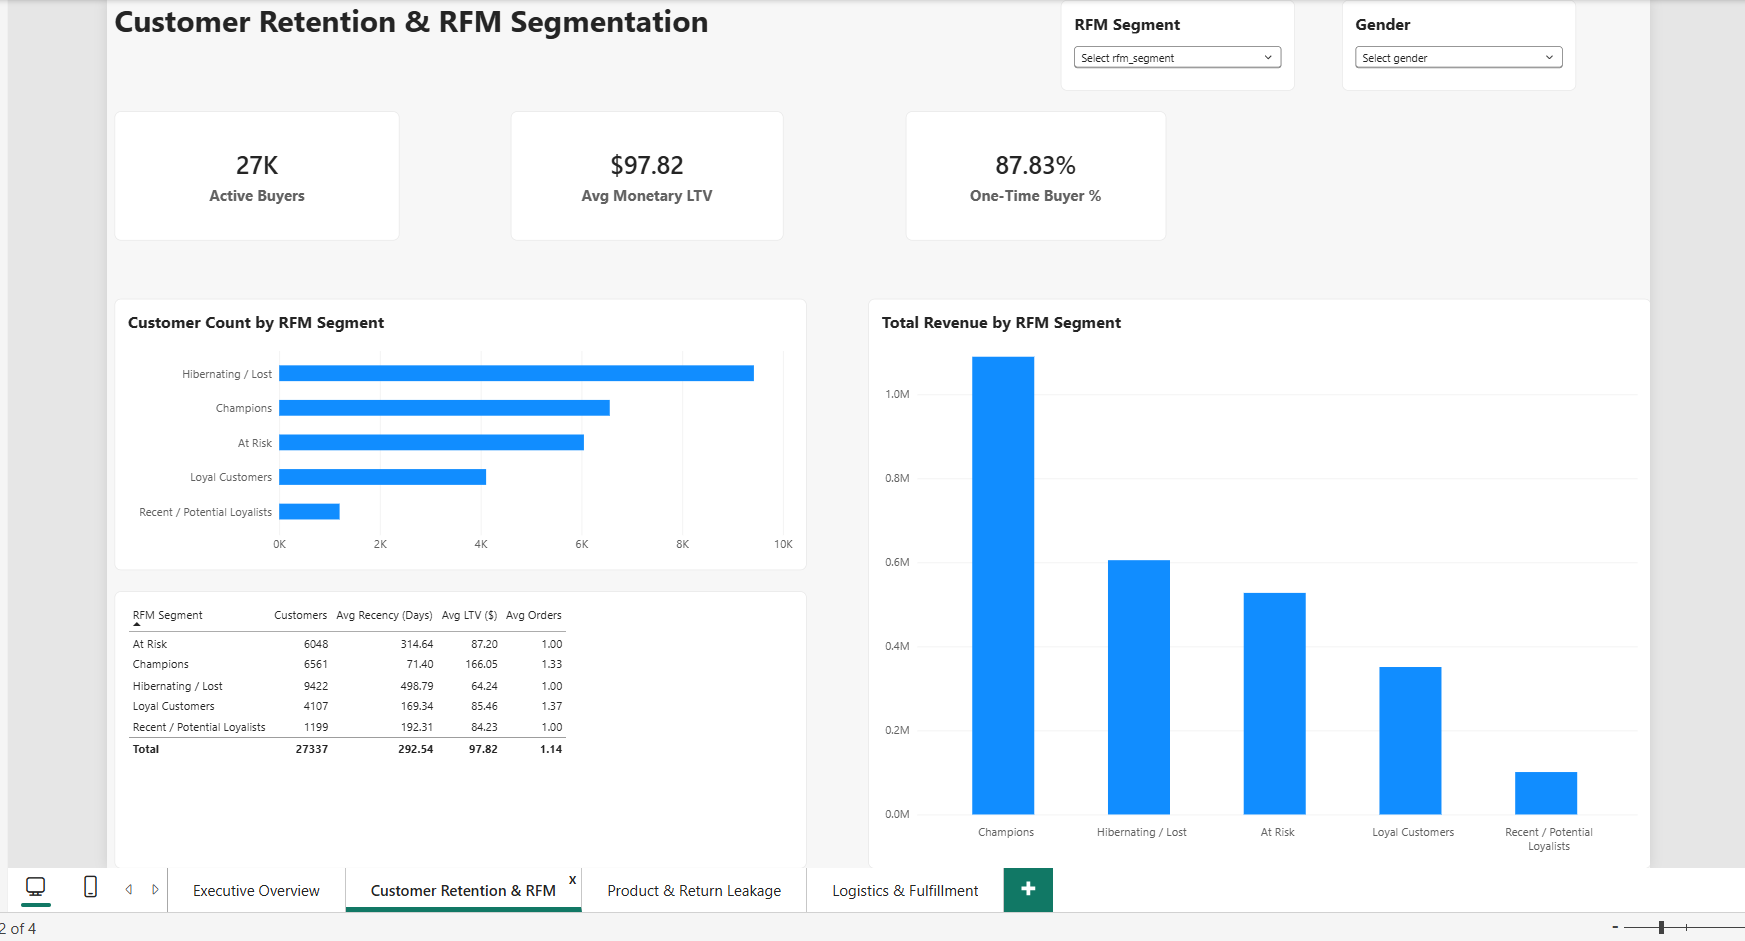

What the dashboard file says about the page in this screenshot:
{"tool":"powerbi","page":{"name":"Customer Retention & RFM","canvas":[1920,1080],"ordinal":1},"visuals":[{"type":"textbox","box":[9.6,0,1144.2,105.4],"z":0},{"type":"listSlicer","title":"RFM Segment","fields":{"Values":["vw_rfm_segments.rfm_segment"]},"box":[1186.3,0,291.3,113.1],"z":1000},{"type":"listSlicer","title":"Gender","fields":{"Values":["vw_dim_customers.gender"]},"box":[1535.2,0,291.3,113.1],"z":2000},{"type":"card","fields":{"Values":["_Measures.Active Buyers"]},"box":[9.6,138,354.6,161],"z":3000},{"type":"card","fields":{"Values":["_Measures.Avg Monetary LTV"]},"box":[502.1,138,339.2,161],"z":4000},{"type":"card","fields":{"Values":["_Measures.One-Time Buyer %"]},"box":[992.8,138,323.9,161],"z":5000},{"type":"clusteredBarChart","title":"Customer Count by RFM Segment","fields":{"Category":["vw_rfm_segments.rfm_segment"],"Y":["Count(vw_rfm_segments.user_id)"]},"box":[9.6,371.8,860.5,337.3],"z":6000},{"type":"clusteredColumnChart","title":"Total Revenue by RFM Segment","fields":{"Category":["vw_rfm_segments.rfm_segment"],"Y":["Sum(vw_rfm_segments.monetary)"]},"box":[946.8,371.8,973.6,709.1],"z":7000},{"type":"tableEx","fields":{"Values":["vw_rfm_segments.rfm_segment","vw_rfm_segments.user_id","Avg(vw_rfm_segments.recency_days)","Avg(vw_rfm_segments.monetary)","Avg(vw_rfm_segments.frequency)"]},"box":[9.6,736,860.5,345],"z":8000}]}

Visuals, with their boxes on the page's 1920x1080 design canvas (x1, y1, x2, y2). These are canvas units, not pixel positions in the 1745x941 screenshot, which may show the page scaled, cropped or inside an application window:
textbox: <bbox>10, 0, 1154, 105</bbox>
"RFM Segment" listSlicer: <bbox>1186, 0, 1478, 113</bbox>
"Gender" listSlicer: <bbox>1535, 0, 1826, 113</bbox>
card - _Measures.Active Buyers: <bbox>10, 138, 364, 299</bbox>
card - _Measures.Avg Monetary LTV: <bbox>502, 138, 841, 299</bbox>
card - _Measures.One-Time Buyer %: <bbox>993, 138, 1317, 299</bbox>
"Customer Count by RFM Segment" clusteredBarChart: <bbox>10, 372, 870, 709</bbox>
"Total Revenue by RFM Segment" clusteredColumnChart: <bbox>947, 372, 1920, 1081</bbox>
tableEx - vw_rfm_segments.rfm_segment x vw_rfm_segments.user_id: <bbox>10, 736, 870, 1081</bbox>
